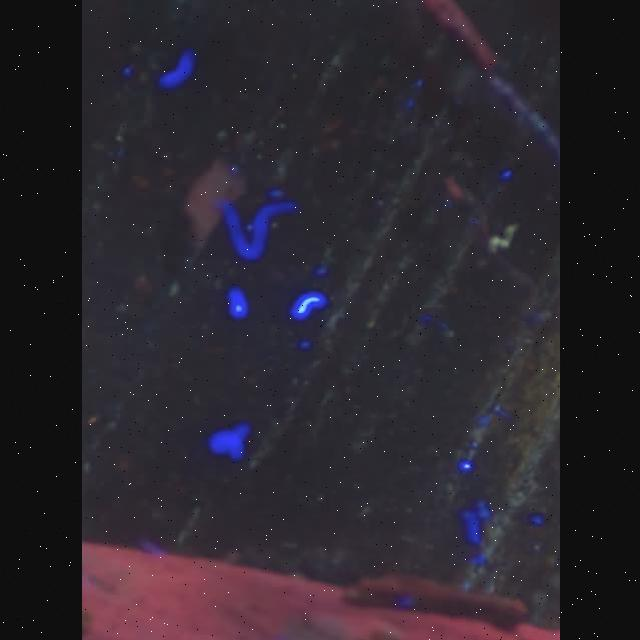Fibre: (487, 224, 518, 252)
